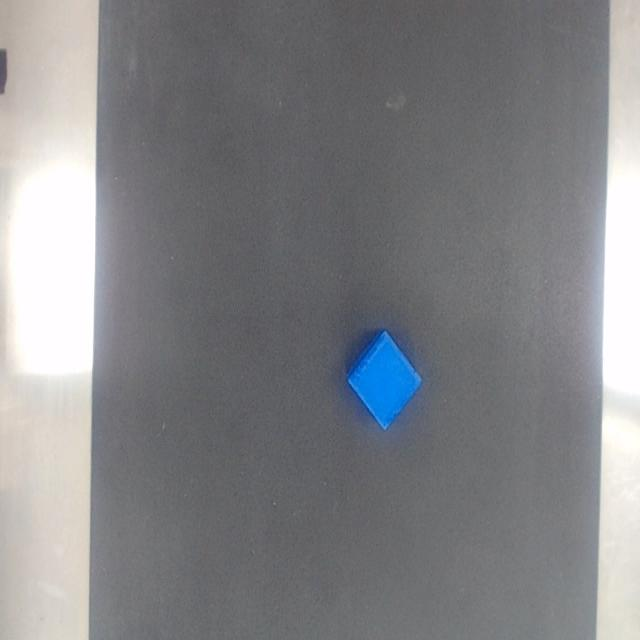Azul: (347, 331, 421, 429)
